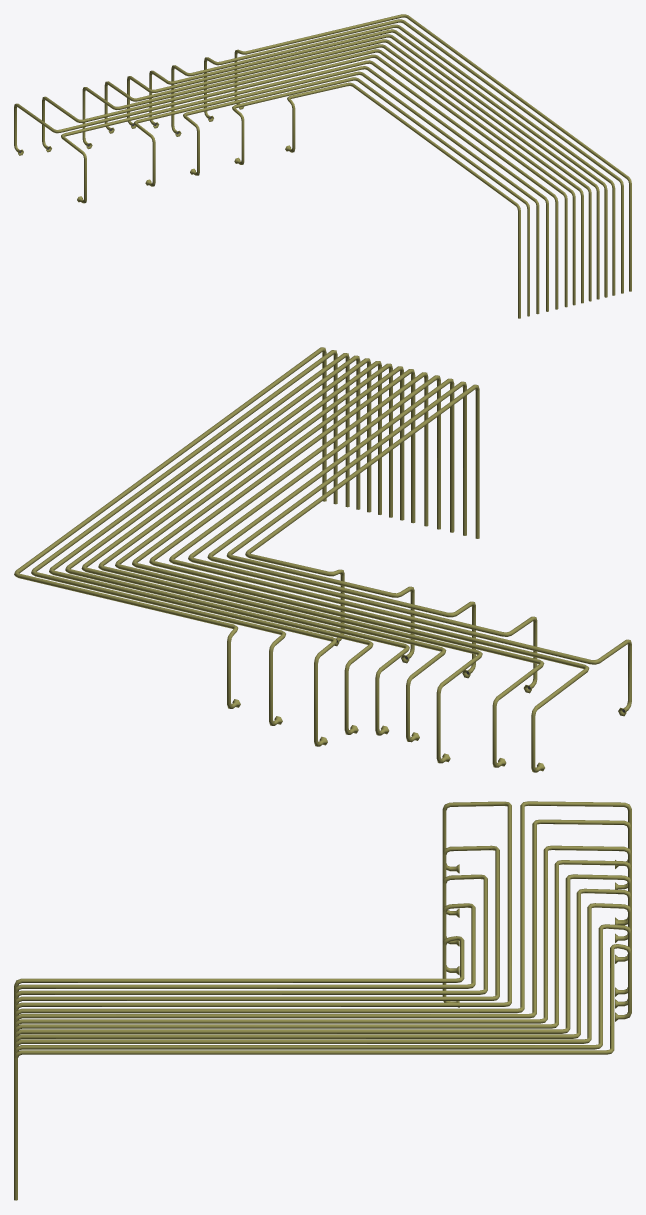
Rendered from ReyesEu_Trompetas.fbx.
The picture shows the model from 3 angles, top to bottom: view 1: azimuth 30°, elevation 25°; view 2: azimuth 150°, elevation 25°; view 3: azimuth 270°, elevation 25°; orthographic projection. The views are drawn at different scales.
Visible parts, largest first — view 1: trompetas; view 2: trompetas; view 3: trompetas.
Boxes of the visible parts, <box> form: trompetas: <box>14,14,631,318</box>; trompetas: <box>14,347,631,772</box>; trompetas: <box>14,801,631,1200</box>.
Size of the model in its own units: 1052 by 294 by 1097.
